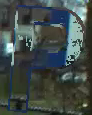Parking: (10, 2, 90, 114)
